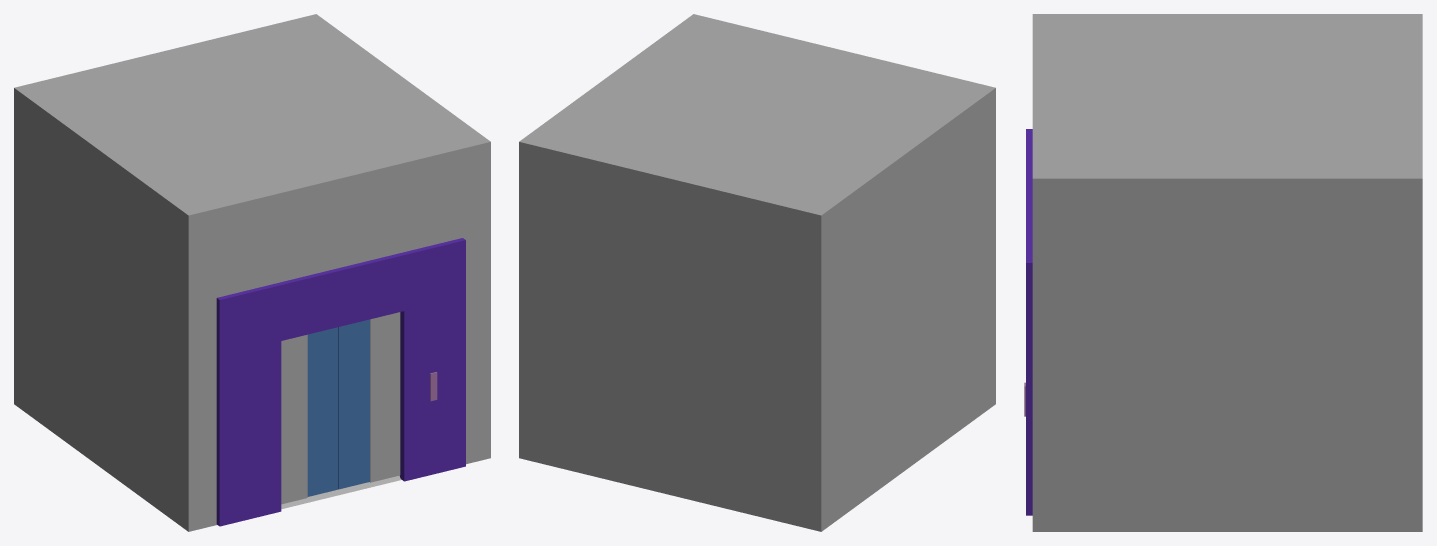
Rendered from Elevator.fbx.
3 views of the same model, side by side, from view 1: azimuth 30°, elevation 25°; view 2: azimuth 150°, elevation 25°; view 3: azimuth 270°, elevation 25° (orthographic). The views are drawn at different scales.
Parts seen in each view (by area): view 1: Elevator, Door_Wall, Inner_Left_Door, Inner_right_Door, Outer_right_Door, Outer_Left_Door; view 2: Elevator; view 3: Elevator, Door_Wall.
Boxes of the visible parts, x1=… form: Elevator: x1=14, y1=14, x2=490, y2=531; Door_Wall: x1=216, y1=238, x2=465, y2=526; Inner_Left_Door: x1=307, y1=327, x2=338, y2=496; Inner_right_Door: x1=338, y1=319, x2=369, y2=489; Outer_right_Door: x1=370, y1=312, x2=400, y2=482; Outer_Left_Door: x1=281, y1=334, x2=307, y2=504; Elevator: x1=519, y1=14, x2=995, y2=531; Elevator: x1=1032, y1=14, x2=1422, y2=531; Door_Wall: x1=1024, y1=129, x2=1032, y2=515.
Size of the model in its own units: 18.65 by 18.65 by 19.05.
